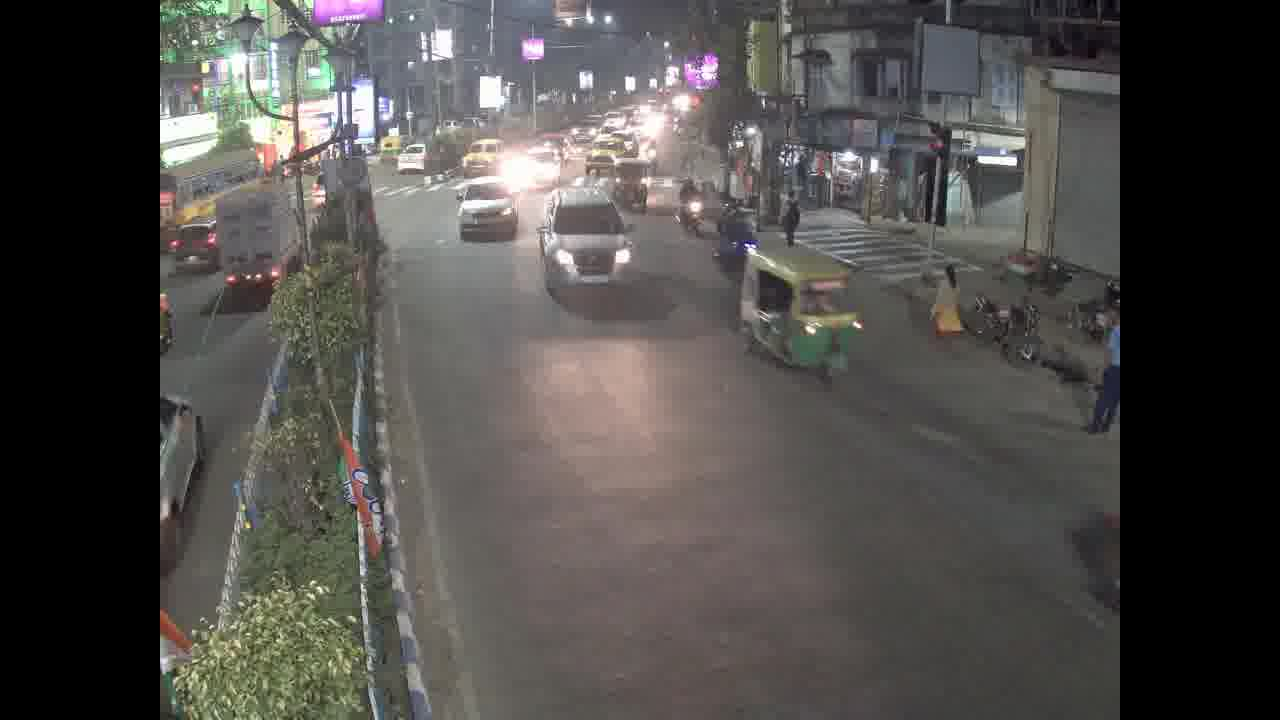auto-rickshaw: (750, 246, 849, 359), (613, 159, 643, 200)
bike: (969, 292, 1055, 385), (675, 200, 710, 244)
car: (543, 192, 632, 284), (458, 188, 514, 234), (466, 141, 502, 173)
person: (930, 266, 969, 339), (779, 192, 803, 250), (725, 197, 750, 239)
